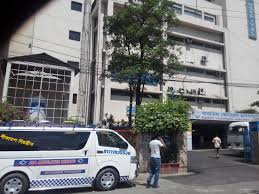ambulance: (1, 126, 139, 194)
truck: (226, 121, 259, 154)
